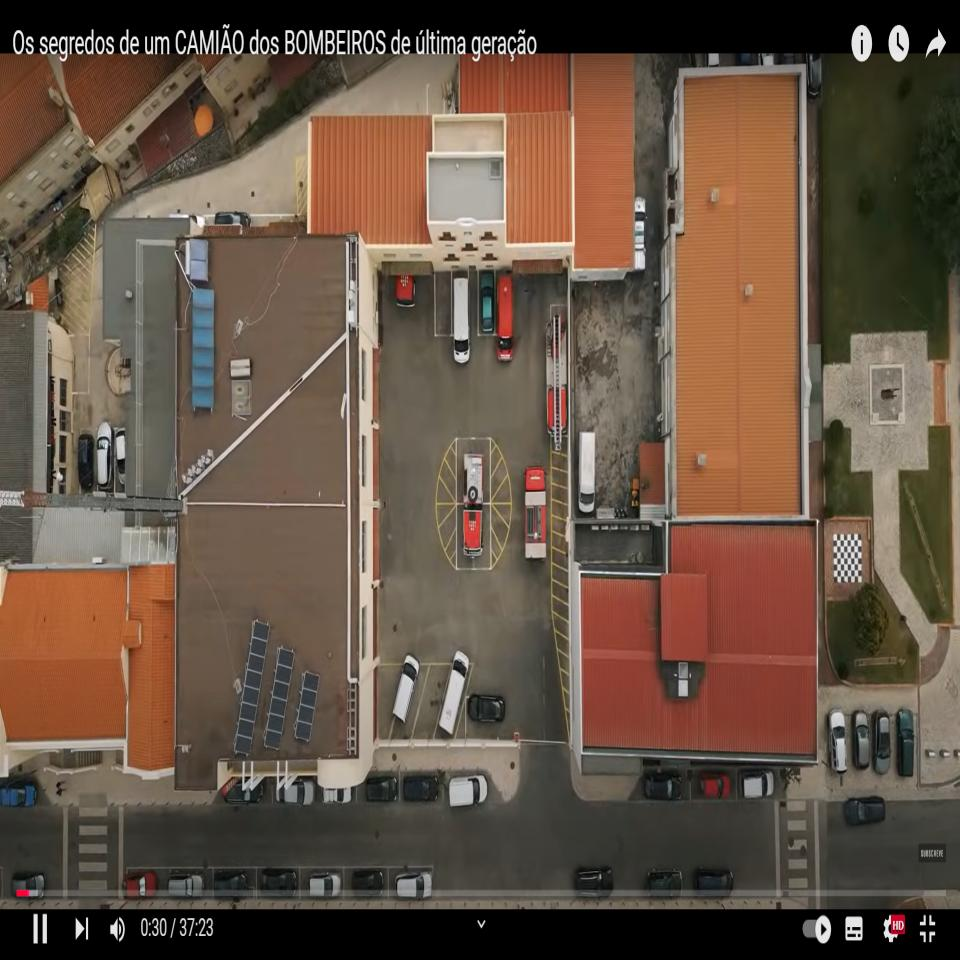viatura: (543, 312, 570, 450), (460, 450, 485, 560), (522, 463, 548, 566)
